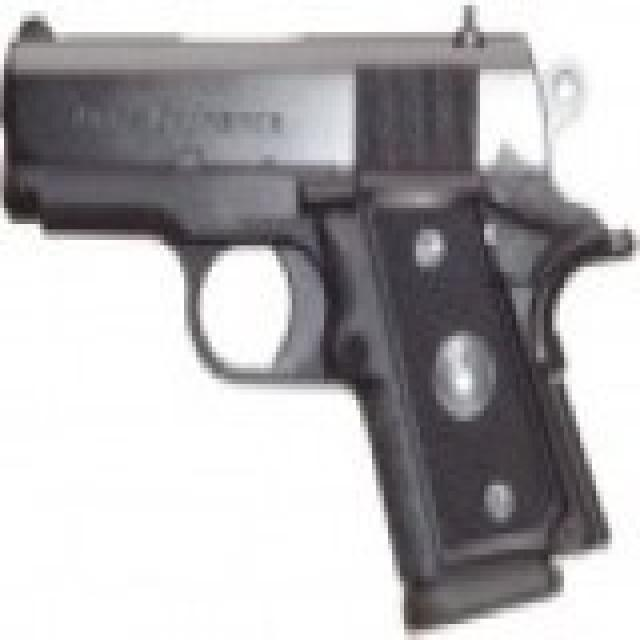gun: (0, 0, 616, 624)
